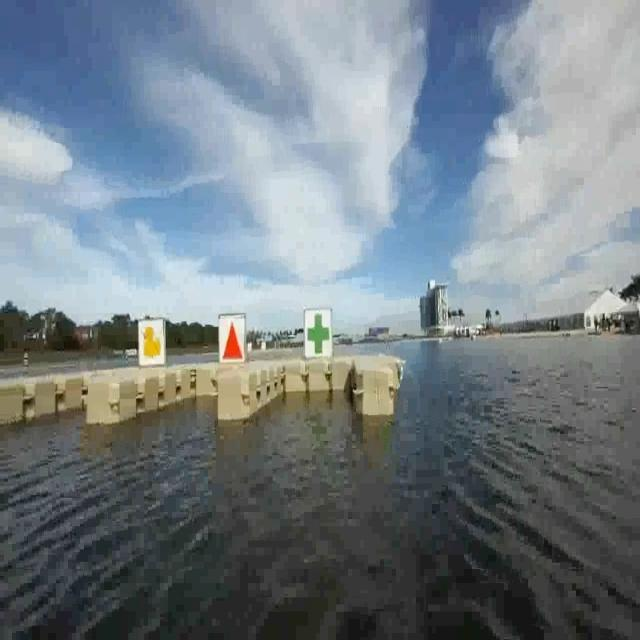blue-cross: (304, 308, 332, 358)
red-dot: (218, 314, 246, 361)
yellow-duck: (140, 325, 161, 359)
